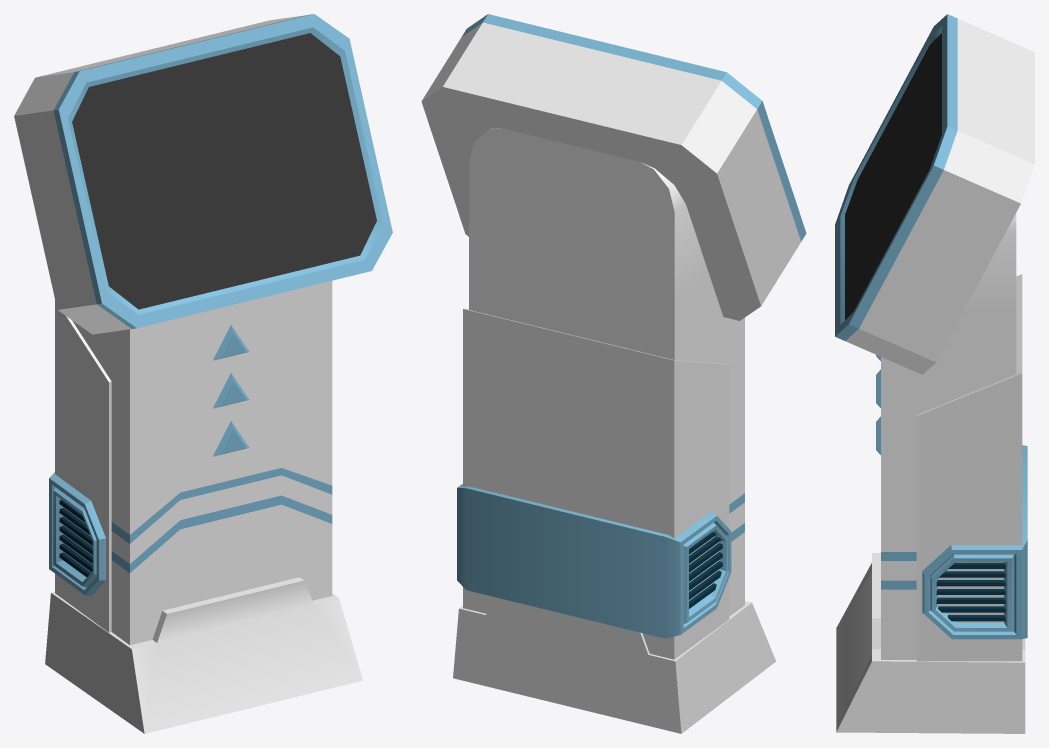
The model's file is Props_ComputerSmall.002.fbx.
3 renders of one model, left to right at view 1: azimuth 30°, elevation 25°; view 2: azimuth 150°, elevation 25°; view 3: azimuth 270°, elevation 25°, orthographic. The views are drawn at different scales.
Parts seen in each view (by area): view 1: Props_ComputerSmall.002; view 2: Props_ComputerSmall.002; view 3: Props_ComputerSmall.002.
Part boxes in pixels (bbox=[...]): Props_ComputerSmall.002: bbox=[14, 14, 392, 733]; Props_ComputerSmall.002: bbox=[421, 14, 806, 733]; Props_ComputerSmall.002: bbox=[835, 14, 1034, 733].
Size of the model in its own units: 0.7512 by 1.54 by 0.4564.
